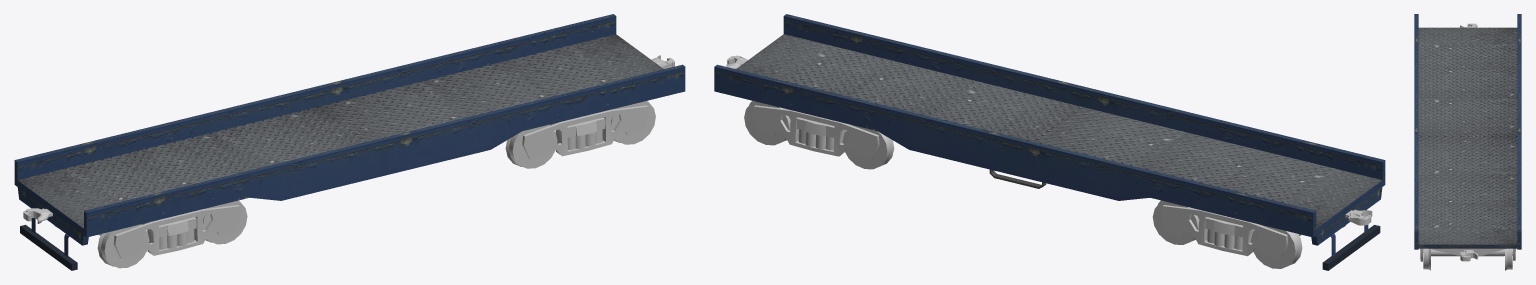
Rendered from TrainFlatcar04.FBX.
3 renders of one model, left to right at view 1: azimuth 30°, elevation 25°; view 2: azimuth 150°, elevation 25°; view 3: azimuth 270°, elevation 25°, orthographic. The views are drawn at different scales.
Visible parts, largest first — view 1: TrainFlatcar04, TrainFlatcar04Wheels, TrainFlatcar04Detail; view 2: TrainFlatcar04, TrainFlatcar04Wheels, TrainFlatcar04Detail; view 3: TrainFlatcar04, TrainFlatcar04Wheels, TrainFlatcar04Detail.
Boxes of the visible parts, x1=… form: TrainFlatcar04: x1=14, y1=14, x2=685, y2=270; TrainFlatcar04Wheels: x1=54, y1=100, x2=655, y2=268; TrainFlatcar04Detail: x1=23, y1=55, x2=674, y2=223; TrainFlatcar04: x1=714, y1=14, x2=1385, y2=270; TrainFlatcar04Wheels: x1=744, y1=100, x2=1345, y2=268; TrainFlatcar04Detail: x1=726, y1=55, x2=1372, y2=225; TrainFlatcar04: x1=1414, y1=14, x2=1521, y2=249; TrainFlatcar04Wheels: x1=1420, y1=248, x2=1515, y2=270; TrainFlatcar04Detail: x1=1429, y1=23, x2=1506, y2=261.
Bounding box in the file's own units: 809 × 87.44 × 157.
